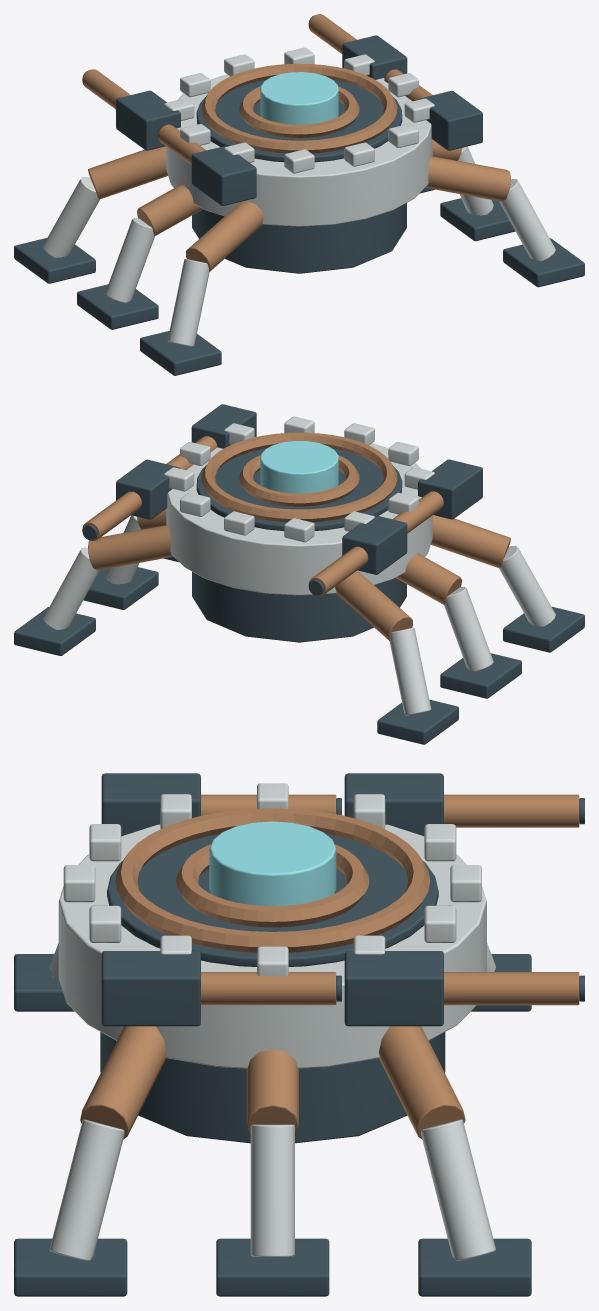
Rendered from FurnaceWalker115.fbx.
The picture shows the model from 3 angles, top to bottom: view 1: azimuth 30°, elevation 25°; view 2: azimuth 150°, elevation 25°; view 3: azimuth 270°, elevation 25°; orthographic projection. The views are drawn at different scales.
Visible parts, largest first — view 1: Ring reactor casing, Hexagonal armored pelvis, Induction loop.001, Open furnace well, Exposed command kernel, Remote cannon housing, Hydraulic shoulder.003, Remote cannon housing.002, Remote cannon housing.001, Hydraulic shoulder.002, Hydraulic shoulder, Segmented walking strut (+23 smaller); view 2: Ring reactor casing, Hexagonal armored pelvis, Induction loop.001, Open furnace well, Exposed command kernel, Hydraulic shoulder.005, Hydraulic shoulder, Remote cannon housing.001, Remote cannon housing, Hydraulic shoulder.002, Segmented walking strut.002, Induction loop (+24 smaller); view 3: Ring reactor casing, Hexagonal armored pelvis, Induction loop.001, Open furnace well, Exposed command kernel, Remote cannon housing.002, Remote cannon housing.003, Segmented walking strut.003, Segmented walking strut.005, Segmented walking strut.004, Stabilized claw foot.004, Stabilized claw foot.003 (+23 smaller).
Part boxes in pixels (box(x1,y1,x2,y2)): Ring reactor casing: box(166, 68, 432, 226); Hexagonal armored pelvis: box(192, 203, 406, 273); Induction loop.001: box(201, 63, 397, 153); Open furnace well: box(196, 79, 402, 162); Exposed command kernel: box(260, 72, 338, 124); Remote cannon housing: box(191, 146, 256, 205); Hydraulic shoulder.003: box(425, 156, 510, 201); Remote cannon housing.002: box(418, 90, 482, 150); Remote cannon housing.001: box(116, 90, 180, 150); Hydraulic shoulder.002: box(88, 146, 167, 199); Hydraulic shoulder: box(186, 201, 263, 271); Segmented walking strut: box(167, 259, 209, 346); Ring reactor casing: box(166, 437, 432, 595); Hexagonal armored pelvis: box(192, 572, 406, 642); Induction loop.001: box(201, 432, 397, 522); Open furnace well: box(196, 448, 402, 530); Exposed command kernel: box(260, 441, 338, 493); Hydraulic shoulder.005: box(88, 525, 173, 570); Hydraulic shoulder: box(431, 515, 510, 568); Remote cannon housing.001: box(342, 515, 407, 574); Remote cannon housing: box(418, 459, 482, 519); Hydraulic shoulder.002: box(335, 571, 412, 640); Segmented walking strut.002: box(389, 627, 431, 715); Induction loop: box(239, 455, 359, 506); Ring reactor casing: box(58, 815, 486, 1068); Hexagonal armored pelvis: box(100, 1032, 445, 1143); Induction loop.001: box(115, 808, 430, 952); Open furnace well: box(107, 834, 438, 966); Exposed command kernel: box(209, 821, 336, 906); Remote cannon housing.002: box(101, 951, 200, 1026); Remote cannon housing.003: box(344, 951, 443, 1026); Segmented walking strut.003: box(49, 1119, 124, 1260); Segmented walking strut.005: box(421, 1119, 495, 1260); Segmented walking strut.004: box(250, 1124, 294, 1256); Stabilized claw foot.004: box(216, 1238, 329, 1296); Stabilized claw foot.003: box(14, 1238, 127, 1296).
Bounding box in the file's own units: 553 × 231 × 413.
